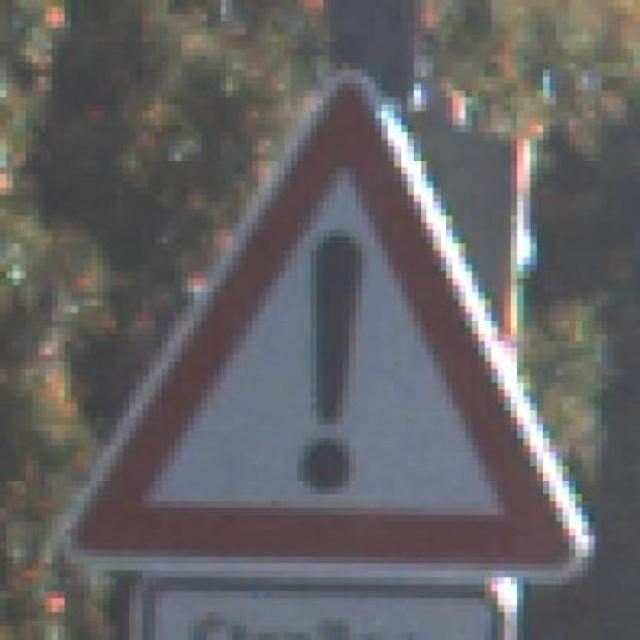Attention Please-: (32, 56, 602, 584)
